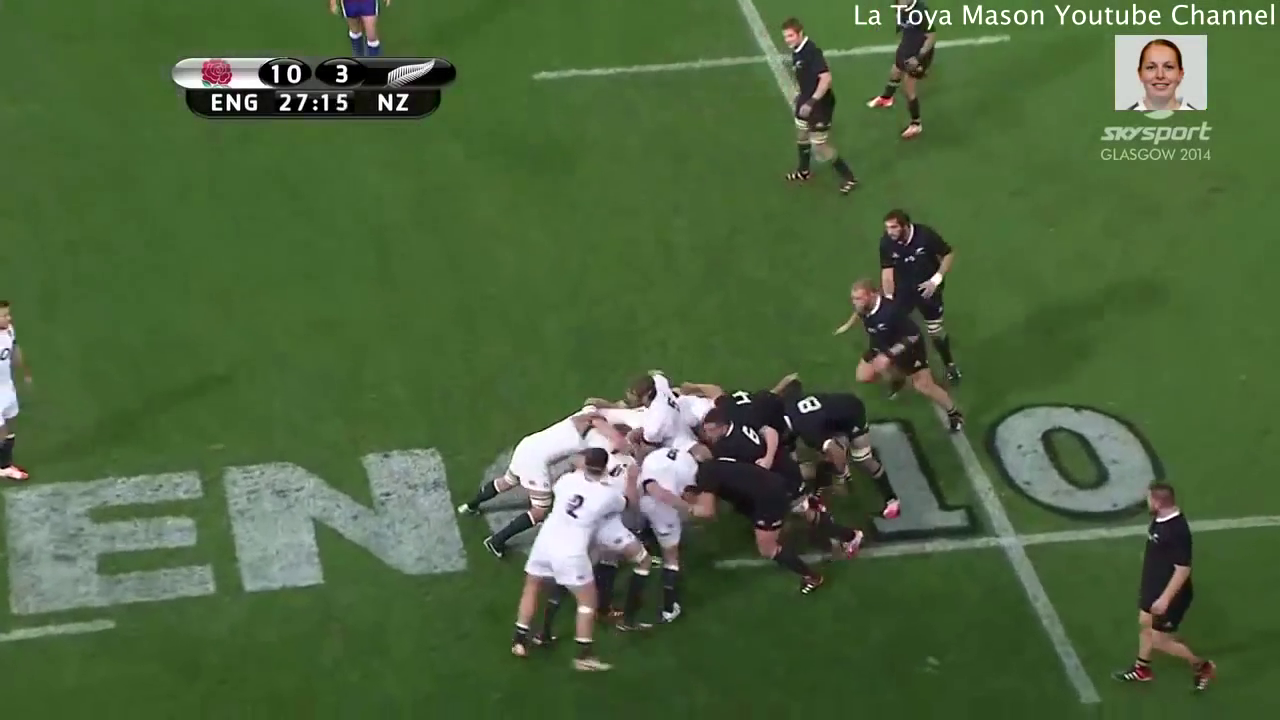10_metre: (702, 353, 1280, 709), (513, 1, 1016, 153)
maul: (441, 350, 907, 679)
player: (497, 449, 633, 681), (674, 445, 861, 605), (1109, 473, 1225, 697), (445, 407, 605, 560), (764, 370, 917, 525), (829, 274, 971, 439), (751, 6, 866, 197), (873, 201, 969, 385), (624, 434, 699, 630), (862, 1, 941, 149), (617, 360, 705, 457), (1, 287, 41, 490)
